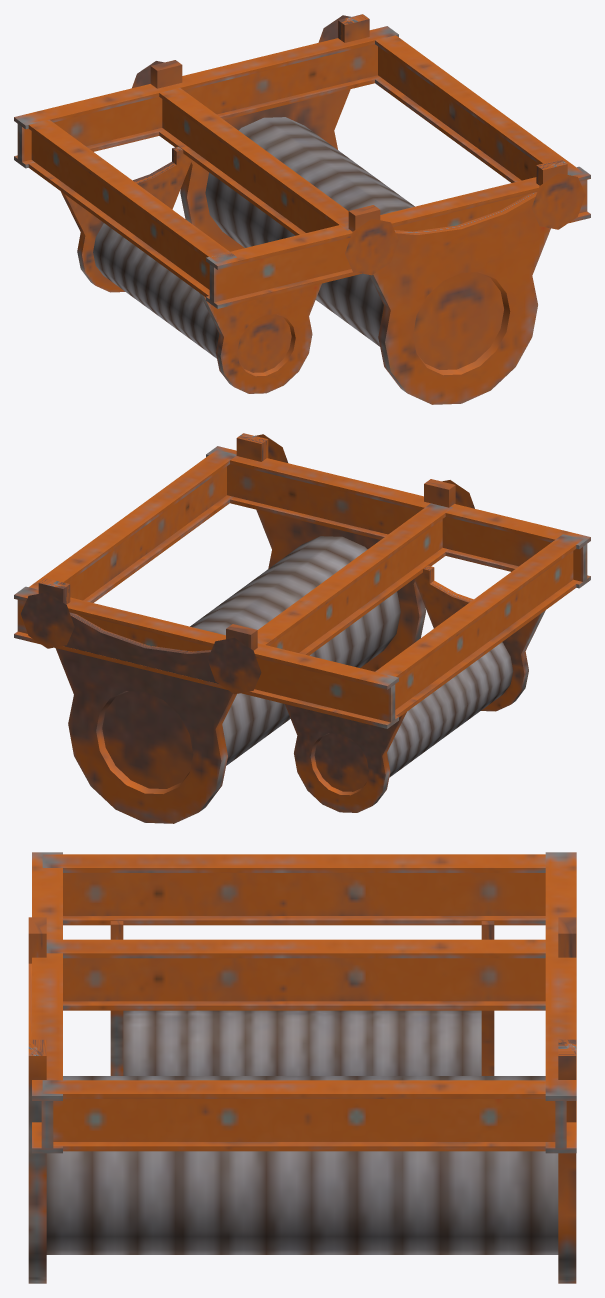
Rendered from CableTrainRoller.fbx.
3 renders of one model, top to bottom at view 1: azimuth 30°, elevation 25°; view 2: azimuth 150°, elevation 25°; view 3: azimuth 270°, elevation 25°, orthographic. The views are drawn at different scales.
Visible parts, largest first — view 1: Cable_Train_Roller_LOD0; view 2: Cable_Train_Roller_LOD0; view 3: Cable_Train_Roller_LOD0.
Boxes of the visible parts, left/top/right/bottom form: Cable_Train_Roller_LOD0: left=14, top=14, right=590, bottom=404; Cable_Train_Roller_LOD0: left=14, top=433, right=590, bottom=823; Cable_Train_Roller_LOD0: left=28, top=852, right=576, bottom=1283.
Size of what is drawn, in the model's own units: 2 by 1.09 by 2.
